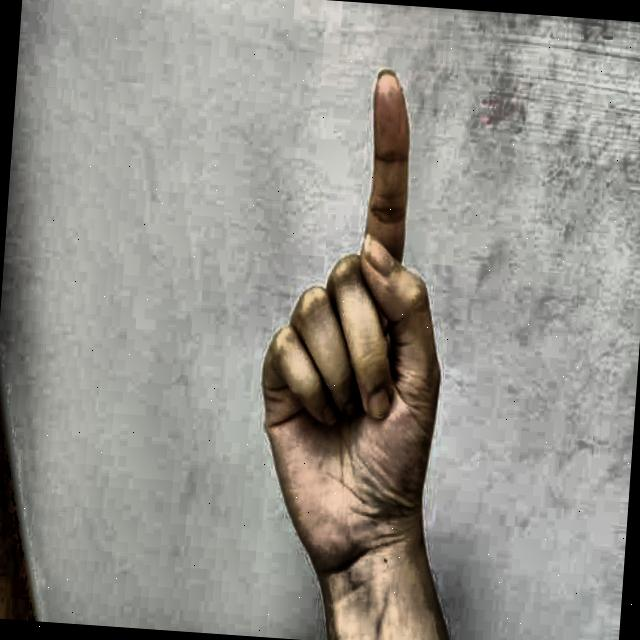U: (230, 32, 487, 592)
